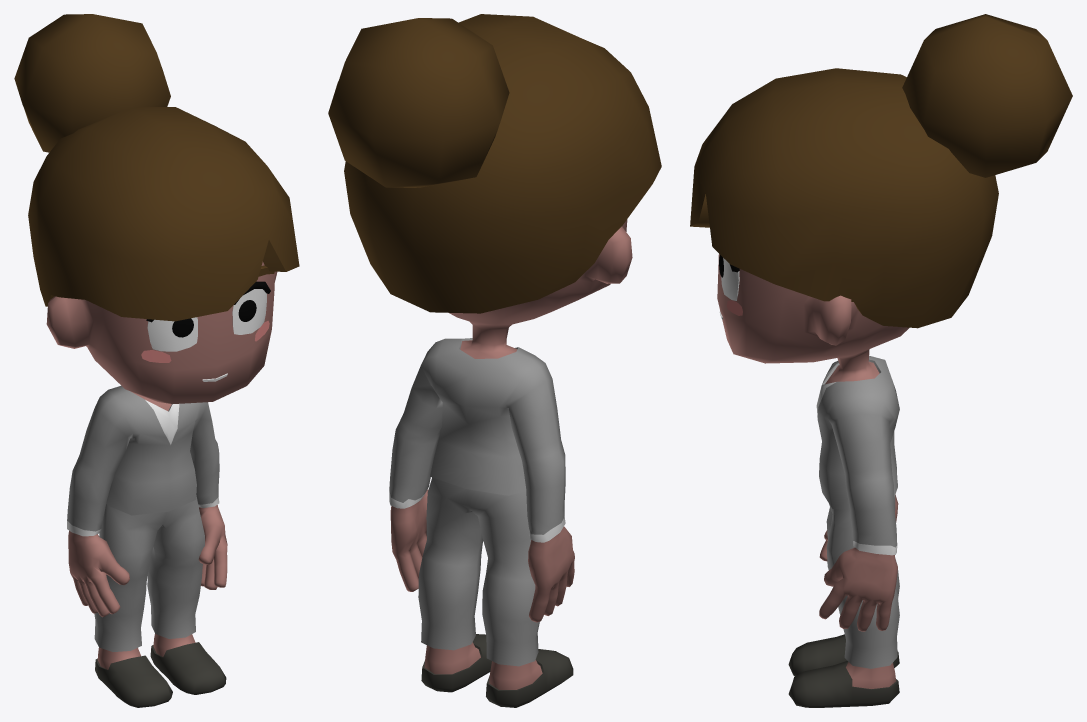
File: Personaje_juzgado.fbx
3 views of the same model, side by side, from view 1: azimuth 30°, elevation 25°; view 2: azimuth 150°, elevation 25°; view 3: azimuth 270°, elevation 25° (orthographic). The views are drawn at different scales.
Visible parts, largest first — view 1: hair6.004, body.025, shirt3.019, pants1.013, shoes2.006, eyesbase1.003, eyes6.013, cheeks.007; view 2: hair6.004, shirt3.019, pants1.013, body.025, shoes2.006; view 3: hair6.004, body.025, shirt3.019, shoes2.006, pants1.013.
Boxes of the visible parts, x1=… form: hair6.004: x1=14, y1=14, x2=299, y2=321; body.025: x1=46, y1=261, x2=277, y2=669; shirt3.019: x1=67, y1=385, x2=219, y2=536; pants1.013: x1=94, y1=495, x2=204, y2=651; shoes2.006: x1=95, y1=642, x2=226, y2=707; eyesbase1.003: x1=146, y1=281, x2=270, y2=351; eyes6.013: x1=172, y1=300, x2=256, y2=337; cheeks.007: x1=141, y1=320, x2=269, y2=362; hair6.004: x1=328, y1=14, x2=661, y2=313; shirt3.019: x1=389, y1=338, x2=565, y2=542; pants1.013: x1=418, y1=477, x2=539, y2=666; body.025: x1=390, y1=219, x2=632, y2=689; shoes2.006: x1=421, y1=634, x2=573, y2=707; hair6.004: x1=690, y1=14, x2=1072, y2=328; body.025: x1=717, y1=254, x2=909, y2=688; shirt3.019: x1=816, y1=355, x2=899, y2=555; shoes2.006: x1=788, y1=634, x2=899, y2=707; pants1.013: x1=826, y1=495, x2=899, y2=668.
Bounding box in the file's own units: 74.78 × 197 × 102.
